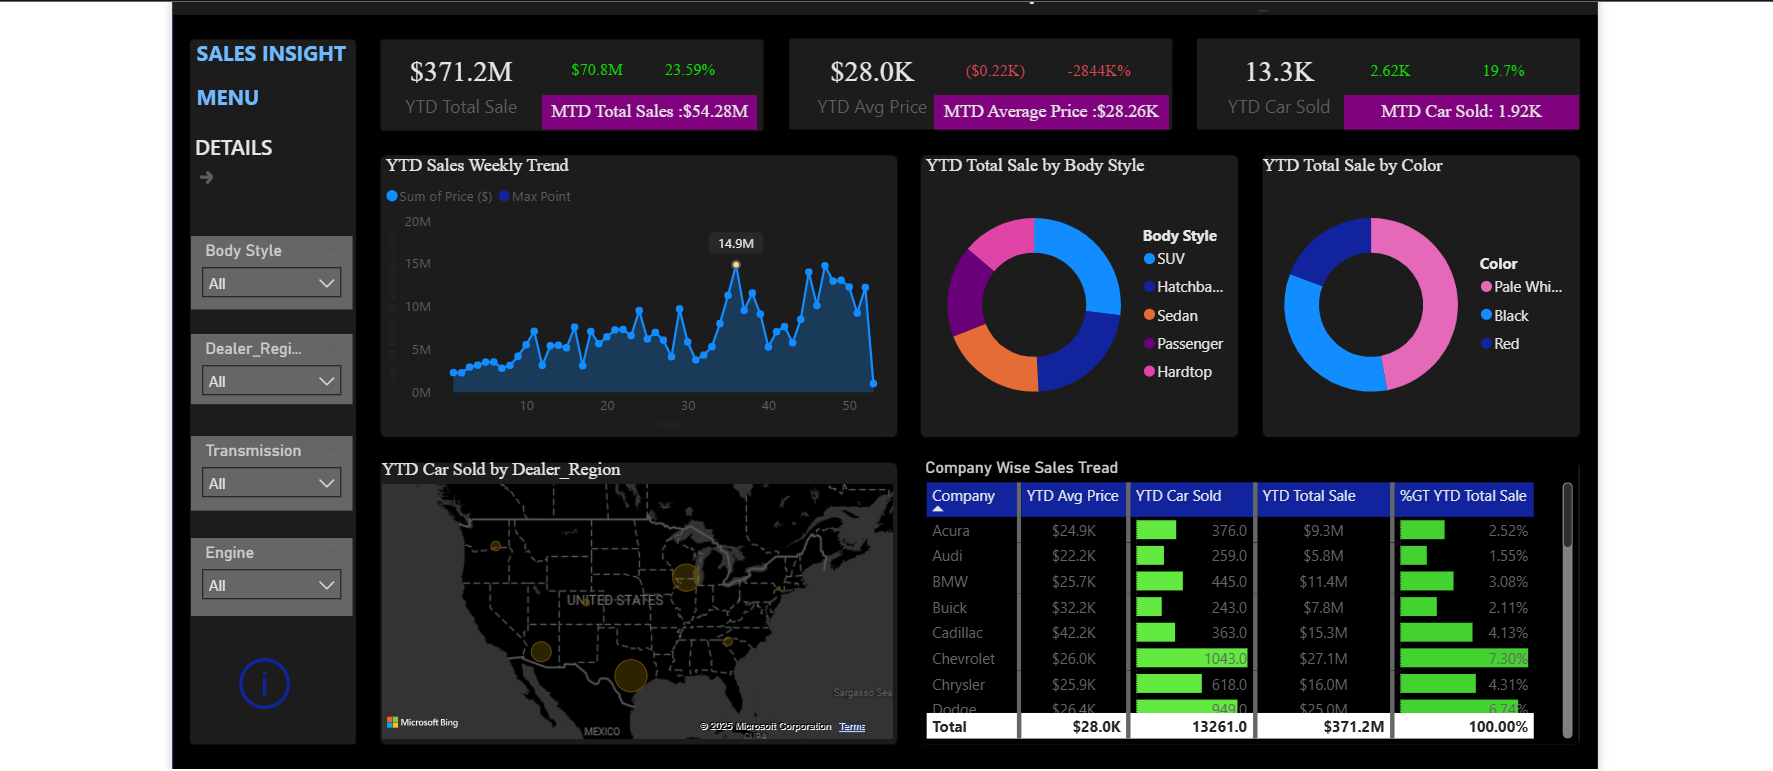

Layout of this report page (visuals, bound fields, positions):
{"tool":"powerbi","page":{"name":"OVERVIEW","canvas":[1280,720],"ordinal":0},"visuals":[{"type":"card","title":"YTD Total Sale","fields":{"Values":["car_data.YTD Total Sale"]},"box":[186.9,61,145.9,82.9],"z":0},{"type":"card","fields":{"Values":["car_data.Sales Difference"]},"box":[350.5,77.5,63.3,24.6],"z":1000},{"type":"card","fields":{"Values":["car_data.YoY Sales Growth"]},"box":[433.6,77.5,63.3,24.6],"z":2000},{"type":"card","fields":{"Values":["car_data.MTD KPI"]},"box":[332.5,113.4,192.7,31.2],"z":3000},{"type":"card","title":"YTD Total Sale","fields":{"Values":["car_data.YTD Avg Price"]},"box":[555.5,61.4,146.4,83.1],"z":4000},{"type":"card","fields":{"Values":["car_data.Avg Price Diff"]},"box":[701.9,78.4,74.6,24.6],"z":5000},{"type":"card","fields":{"Values":["car_data.YoY Avg Price Growth"]},"box":[790.7,78.4,83.1,24.6],"z":6000},{"type":"card","fields":{"Values":["car_data.AVG Price MTD KPI"]},"box":[683.9,113.4,210.7,31.2],"z":7000},{"type":"card","title":"YTD Total Sale","fields":{"Values":["car_data.YTD Car Sold"]},"box":[921,61.4,146.4,83.1],"z":8000},{"type":"card","fields":{"Values":["car_data.Car Sold Diff"]},"box":[1057.1,78.4,74.6,24.6],"z":9000},{"type":"card","fields":{"Values":["car_data.Yoy Car Sold Growth"]},"box":[1158.1,78.4,74.6,24.6],"z":10000},{"type":"card","fields":{"Values":["car_data.MTD Car Sold KPI"]},"box":[1052.3,113.4,210.7,31.2],"z":11000},{"type":"areaChart","title":"YTD Sales Weekly Trend","fields":{"Y":["Sum(car_data.Price ($))","car_data.Max Point"],"Category":["Calander Table.Week"]},"box":[187,167.2,465.7,252.2],"z":12000},{"type":"donutChart","fields":{"Category":["car_data.Body Style"],"Y":["car_data.YTD Total Sale"]},"box":[671.6,167.2,289.1,252.2],"z":13000},{"type":"donutChart","fields":{"Y":["car_data.YTD Total Sale"],"Category":["car_data.Color"]},"box":[973.9,167.2,289.1,252.2],"z":14000},{"type":"map","fields":{"Category":["car_data.Dealer_Region"],"Size":["car_data.YTD Car Sold"]},"box":[183.3,440.2,469.5,256],"z":15000},{"type":"tableEx","title":"Company Wise Sales Tread","fields":{"Values":["car_data.Company","car_data.YTD Avg Price","car_data.YTD Car Sold","car_data.YTD Total Sale1","car_data.YTD Total Sale"]},"box":[671.6,440.2,591.4,256],"z":16000},{"type":"textbox","title":"CAR SALES DASHBOARD | OVERVIEW","box":[400.5,0,587.6,42.5],"z":17000},{"type":"slicer","fields":{"Values":["car_data.Body Style"]},"box":[17,239.9,144.5,66.1],"z":18000},{"type":"slicer","fields":{"Values":["car_data.Dealer_Region"]},"box":[17,327.8,144.5,63.3],"z":19000},{"type":"slicer","fields":{"Values":["car_data.Transmission"]},"box":[17,419.4,144.5,67.1],"z":20000},{"type":"slicer","fields":{"Values":["car_data.Engine"]},"box":[17,511.1,144.5,69.9],"z":21000},{"type":"textbox","title":"SALES INSIGHT","box":[17,63.3,157.8,29.3],"z":22000},{"type":"textbox","title":"MENU","box":[17,102,72.7,27.4],"z":23000},{"type":"actionButton","title":"DETAILS","box":[20.8,147.4,137.9,50.1],"z":23002},{"type":"actionButton","box":[53.8,612.1,93.5,58.6],"z":23003}]}

Visuals, with their boxes on the page's 1280x720 design canvas (x1, y1, x2, y2). These are canvas units, not pixel positions in the 1773x771 screenshot, which may show the page scaled, cropped or inside an application window:
"YTD Total Sale" card: rect(187, 61, 333, 144)
card - car_data.Sales Difference: rect(350, 78, 414, 102)
card - car_data.YoY Sales Growth: rect(434, 78, 497, 102)
card - car_data.MTD KPI: rect(332, 113, 525, 145)
"YTD Total Sale" card: rect(556, 61, 702, 144)
card - car_data.Avg Price Diff: rect(702, 78, 776, 103)
card - car_data.YoY Avg Price Growth: rect(791, 78, 874, 103)
card - car_data.AVG Price MTD KPI: rect(684, 113, 895, 145)
"YTD Total Sale" card: rect(921, 61, 1067, 144)
card - car_data.Car Sold Diff: rect(1057, 78, 1132, 103)
card - car_data.Yoy Car Sold Growth: rect(1158, 78, 1233, 103)
card - car_data.MTD Car Sold KPI: rect(1052, 113, 1263, 145)
"YTD Sales Weekly Trend" areaChart: rect(187, 167, 653, 419)
donutChart - car_data.Body Style x car_data.YTD Total Sale: rect(672, 167, 961, 419)
donutChart - car_data.YTD Total Sale x car_data.Color: rect(974, 167, 1263, 419)
map - car_data.Dealer_Region x car_data.YTD Car Sold: rect(183, 440, 653, 696)
"Company Wise Sales Tread" tableEx: rect(672, 440, 1263, 696)
"CAR SALES DASHBOARD | OVERVIEW" textbox: rect(400, 0, 988, 42)
slicer - car_data.Body Style: rect(17, 240, 162, 306)
slicer - car_data.Dealer_Region: rect(17, 328, 162, 391)
slicer - car_data.Transmission: rect(17, 419, 162, 486)
slicer - car_data.Engine: rect(17, 511, 162, 581)
"SALES INSIGHT" textbox: rect(17, 63, 175, 93)
"MENU" textbox: rect(17, 102, 90, 129)
"DETAILS" actionButton: rect(21, 147, 159, 198)
actionButton: rect(54, 612, 147, 671)
